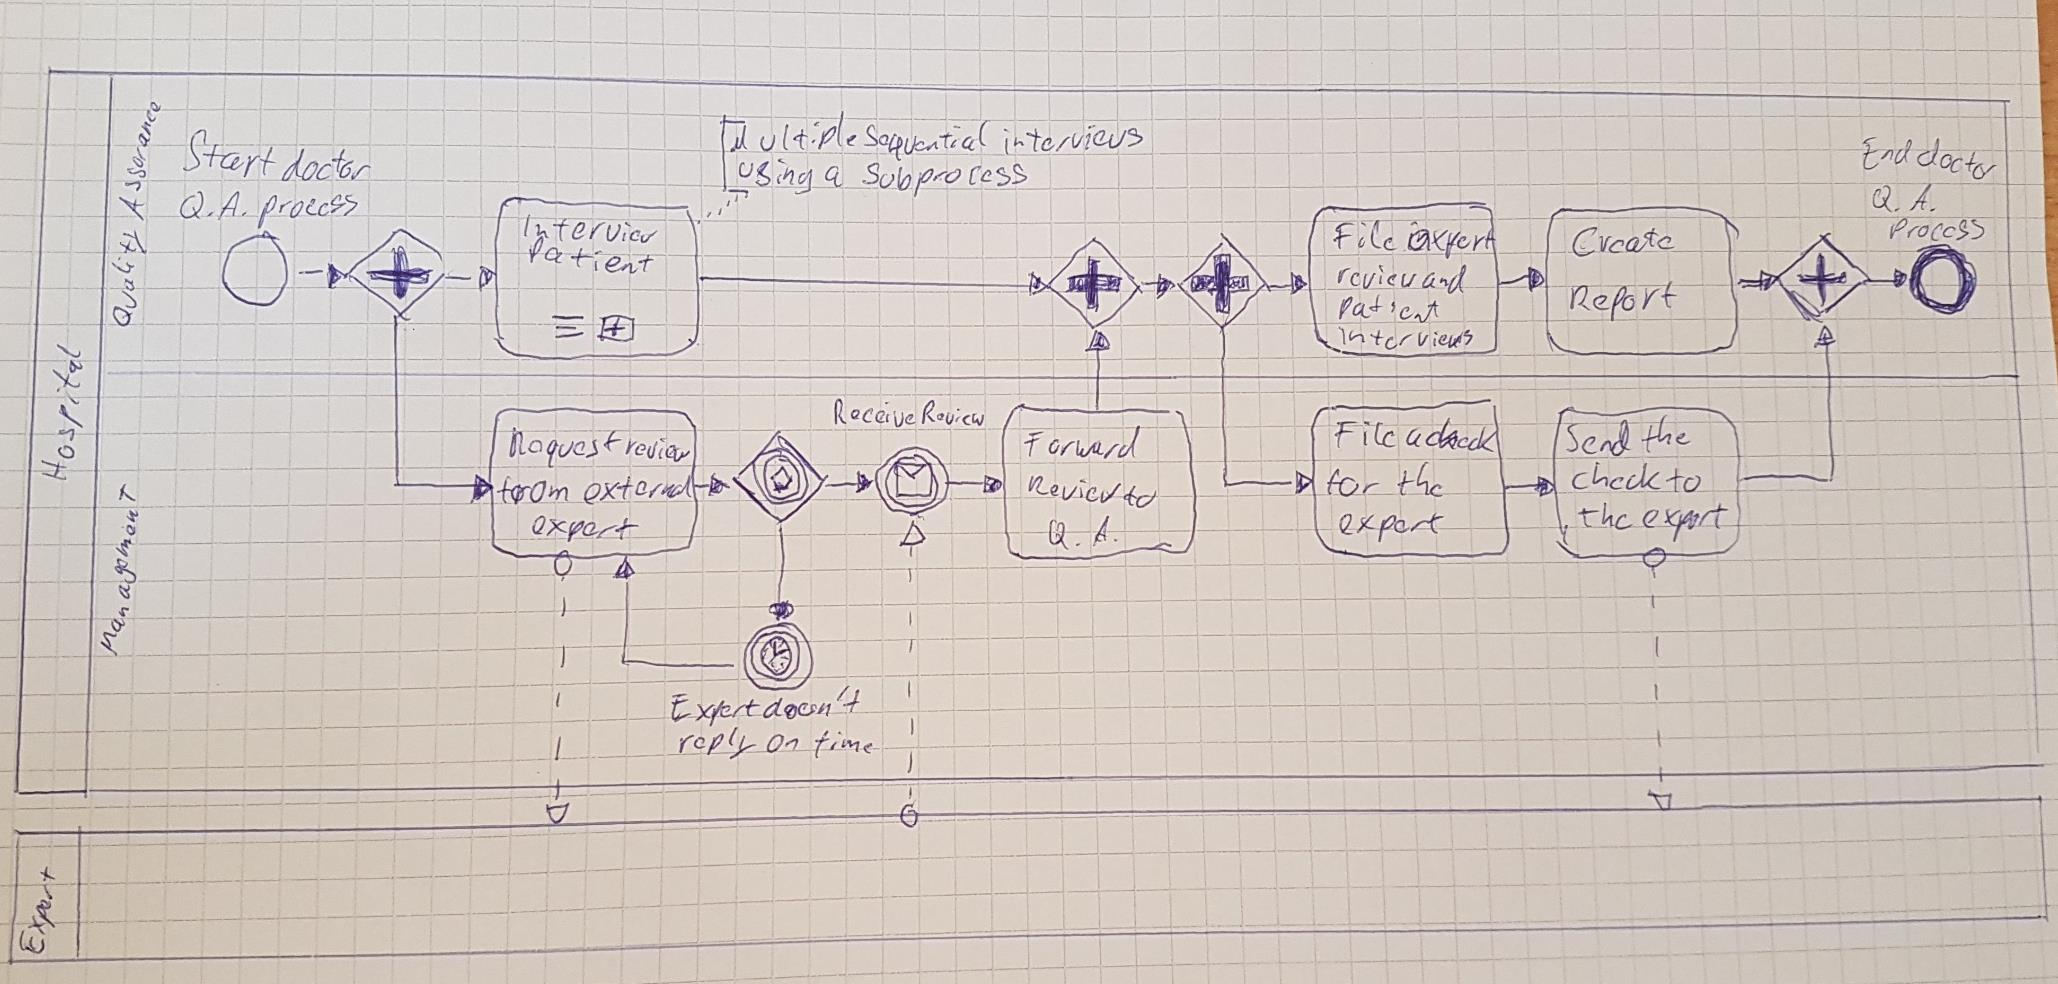Assurance: (112, 94, 168, 226)
Create: (1564, 220, 1683, 265)
End: (1855, 130, 1919, 177)
Expert: (13, 858, 63, 961), (664, 687, 765, 732)
File: (1327, 214, 1403, 258), (1328, 413, 1403, 456)
Forward: (1016, 420, 1147, 466)
Hospital: (31, 336, 94, 489)
Interview: (516, 207, 665, 249)
Management: (92, 477, 144, 663)
Multiple: (724, 105, 863, 160)
Patient: (520, 231, 661, 282)
Process: (1882, 211, 1990, 248)
Q.A.: (1041, 511, 1124, 556), (171, 185, 253, 227), (1864, 178, 1942, 219)
Quality: (103, 223, 152, 335)
Receive: (826, 392, 922, 434)
Report: (1563, 272, 1684, 329)
Request: (503, 422, 627, 474)
Review: (1022, 469, 1126, 510), (914, 395, 990, 434)
Send: (1558, 412, 1638, 463)
Sequential: (858, 115, 997, 166)
Start: (174, 123, 282, 186)
a: (819, 160, 851, 196), (1400, 421, 1428, 454)
and: (1415, 260, 1473, 301)
check: (1564, 456, 1667, 498), (1419, 411, 1503, 459)
doctor: (273, 140, 378, 189), (1910, 132, 2003, 186)
doesn't: (756, 680, 868, 726)
expert: (1333, 505, 1451, 549), (1402, 220, 1501, 266), (526, 510, 645, 548)
export: (1636, 495, 1735, 548)
external: (576, 470, 698, 513)
for: (1318, 461, 1386, 504)
from: (492, 471, 576, 512)
interviews: (995, 119, 1150, 163), (1331, 320, 1479, 356)
on: (760, 728, 805, 761)
patient: (1332, 289, 1447, 331)
process: (250, 188, 364, 233)
reply: (671, 721, 763, 766)
review: (1332, 258, 1421, 296), (619, 433, 695, 469)
subprocess: (855, 155, 1033, 204)
the: (1635, 409, 1698, 460), (1390, 456, 1451, 504), (1572, 495, 1639, 536)
time: (805, 725, 880, 765)
to: (1661, 461, 1707, 500), (1118, 478, 1162, 515)
using: (731, 150, 820, 202)
